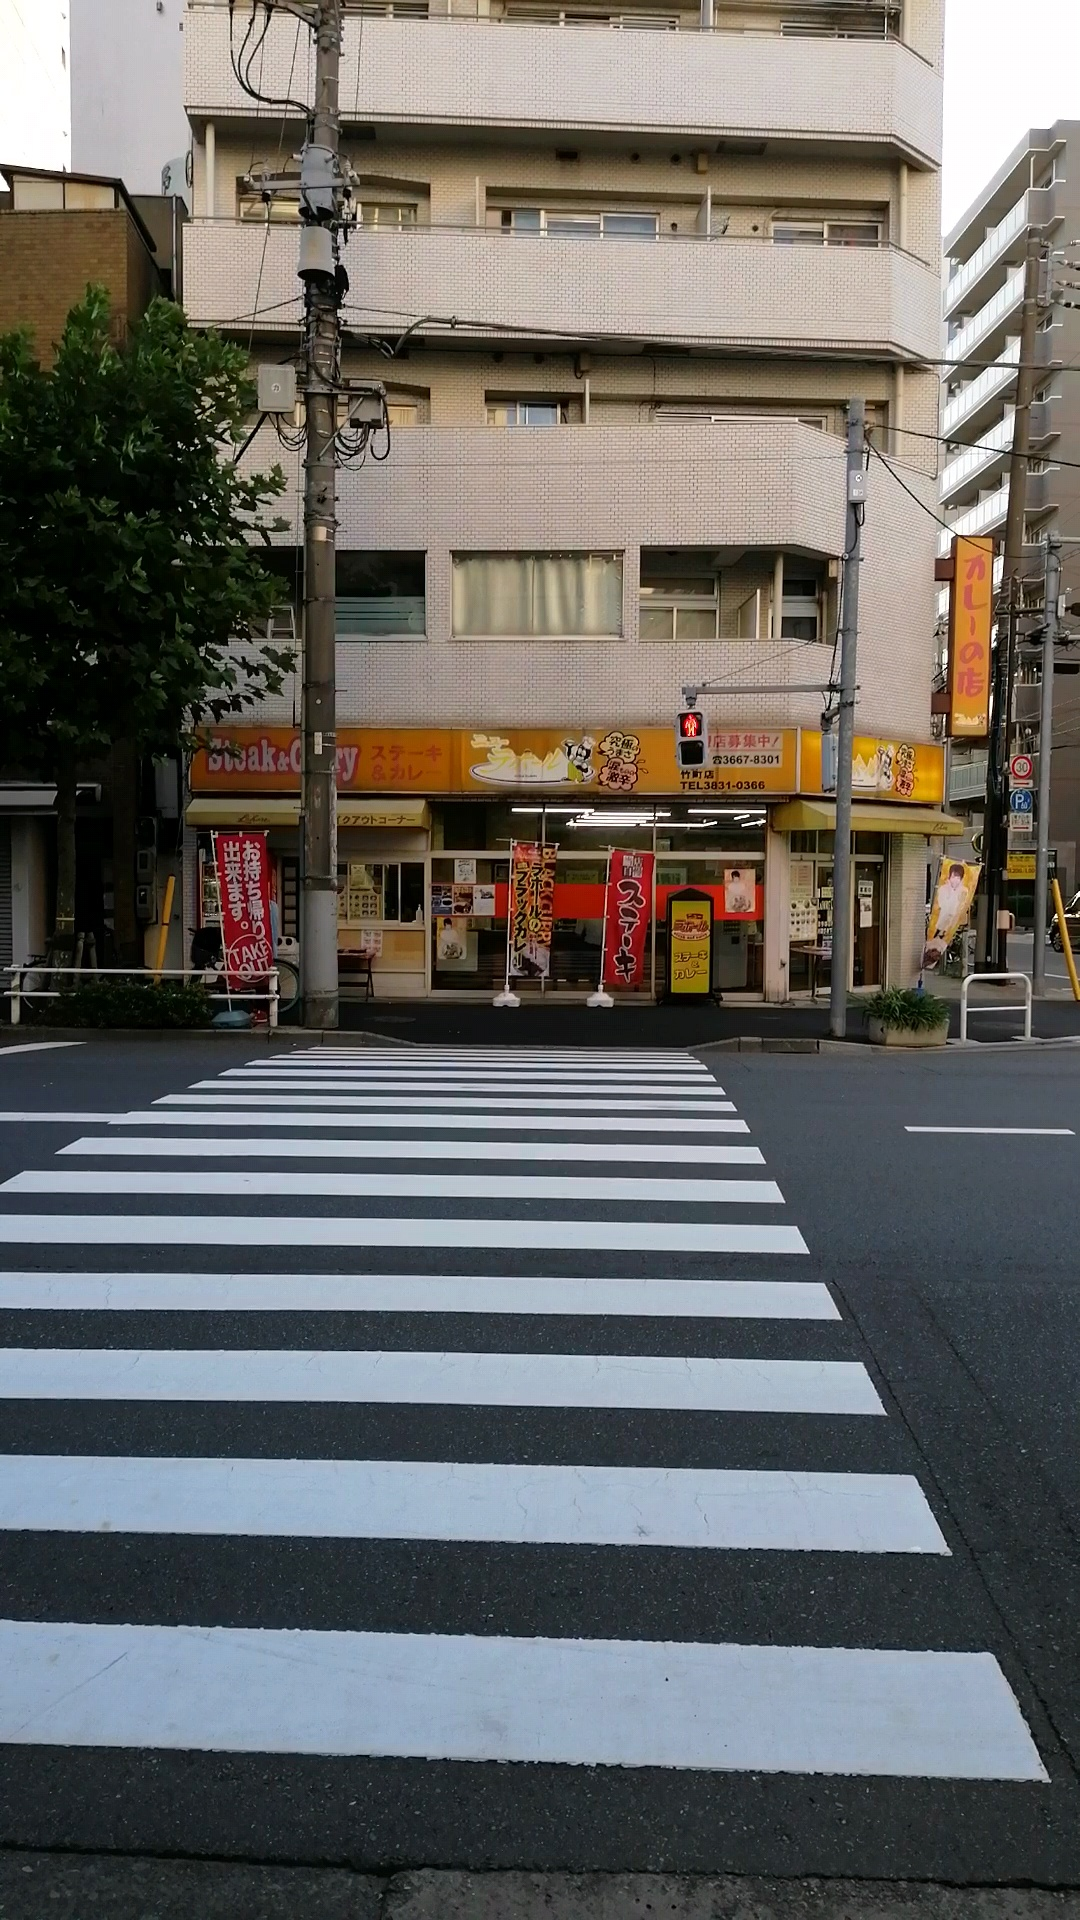red: (674, 708, 711, 770)
